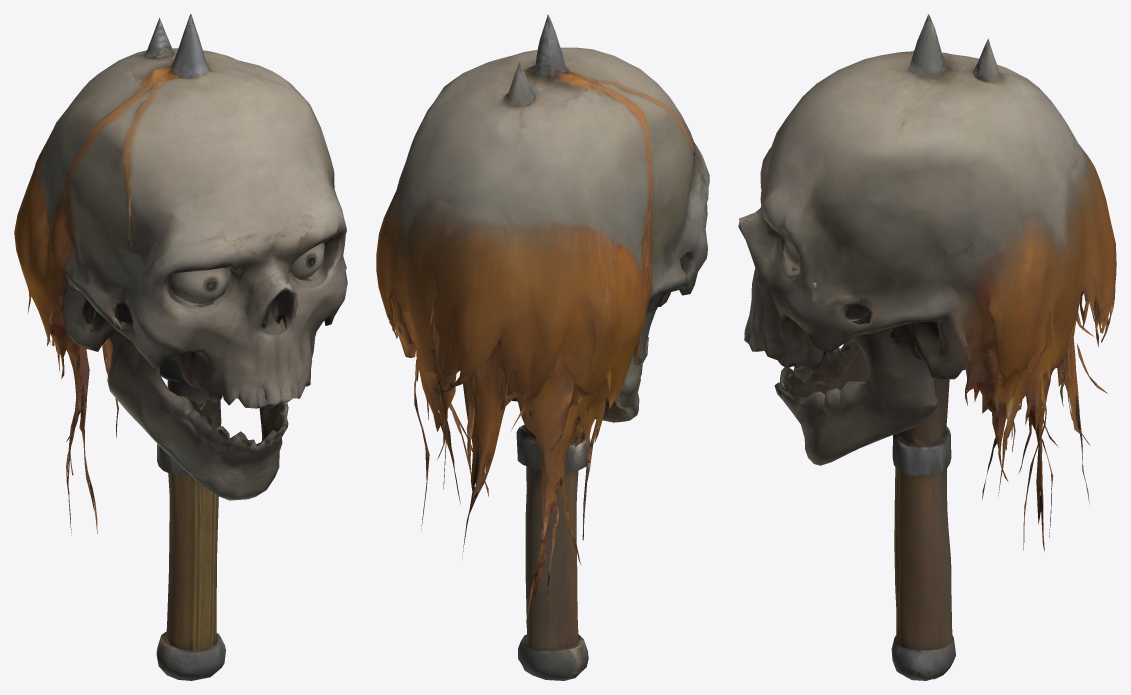
3 views of the same model, side by side, from view 1: azimuth 30°, elevation 25°; view 2: azimuth 150°, elevation 25°; view 3: azimuth 270°, elevation 25° (orthographic).
Parts seen in each view (by area): view 1: Skull on a spike; view 2: Skull on a spike; view 3: Skull on a spike.
Boxes of the visible parts, bbox=[...] form: Skull on a spike: bbox=[14, 14, 347, 680]; Skull on a spike: bbox=[376, 14, 709, 680]; Skull on a spike: bbox=[738, 14, 1116, 680].
Bounding box in the file's own units: 0.7961 × 2 × 1.04.
Materials: 1 (1 with a texture image).
